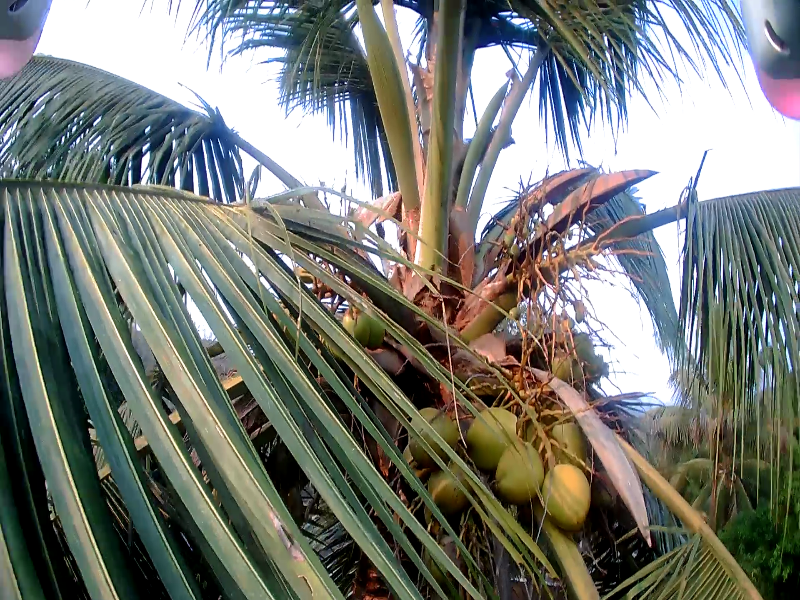coconut: (456, 393, 511, 450), (408, 400, 455, 460), (548, 459, 585, 526), (500, 435, 534, 502), (340, 303, 384, 350), (426, 469, 468, 509), (550, 412, 585, 455), (551, 345, 573, 384), (504, 302, 522, 323), (573, 297, 587, 324)
